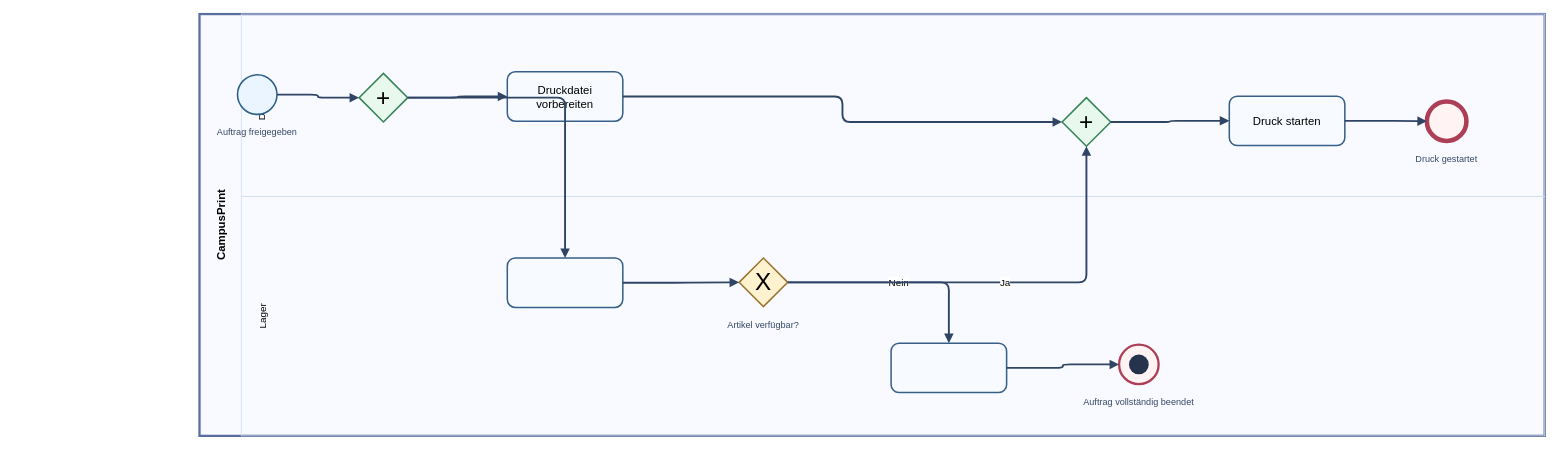
Image size: 1559x450. Some labels were removed from this diagram. The centre of each missing label's shape, as x and y in pixels:
Auftrag stornieren: [948,367]
Material prüfen: [564,282]
